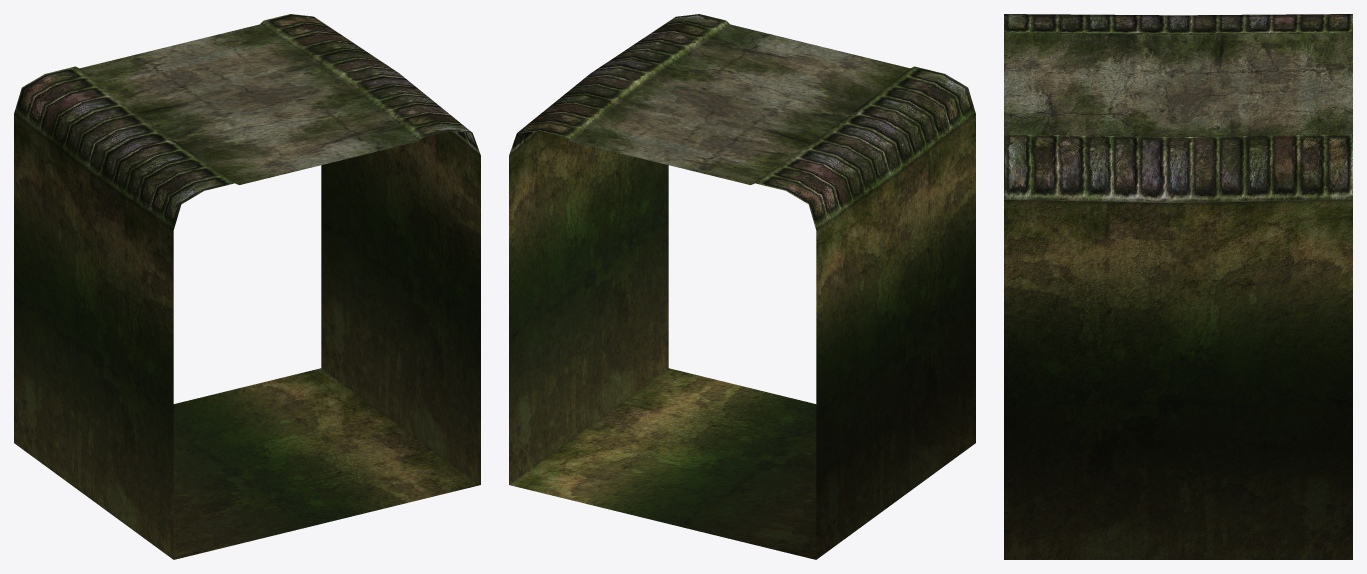
File: floor_small.DAE
3 renders of one model, left to right at view 1: azimuth 30°, elevation 25°; view 2: azimuth 150°, elevation 25°; view 3: azimuth 270°, elevation 25°, orthographic. The views are drawn at different scales.
Parts seen in each view (by area): view 1: floor_small; view 2: floor_small; view 3: floor_small.
Part boxes in pixels (<box>): floor_small: <box>14,14,480,559</box>; floor_small: <box>509,14,975,559</box>; floor_small: <box>1004,14,1352,559</box>.
Bounding box in the file's own units: 2.27 × 2 × 2.5.
